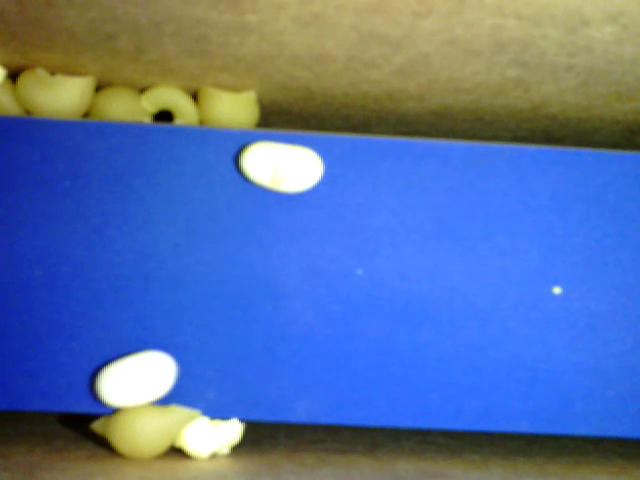elbow: (141, 85, 196, 125)
shell: (93, 403, 200, 462), (15, 68, 97, 123), (198, 80, 259, 128), (87, 85, 155, 124)
